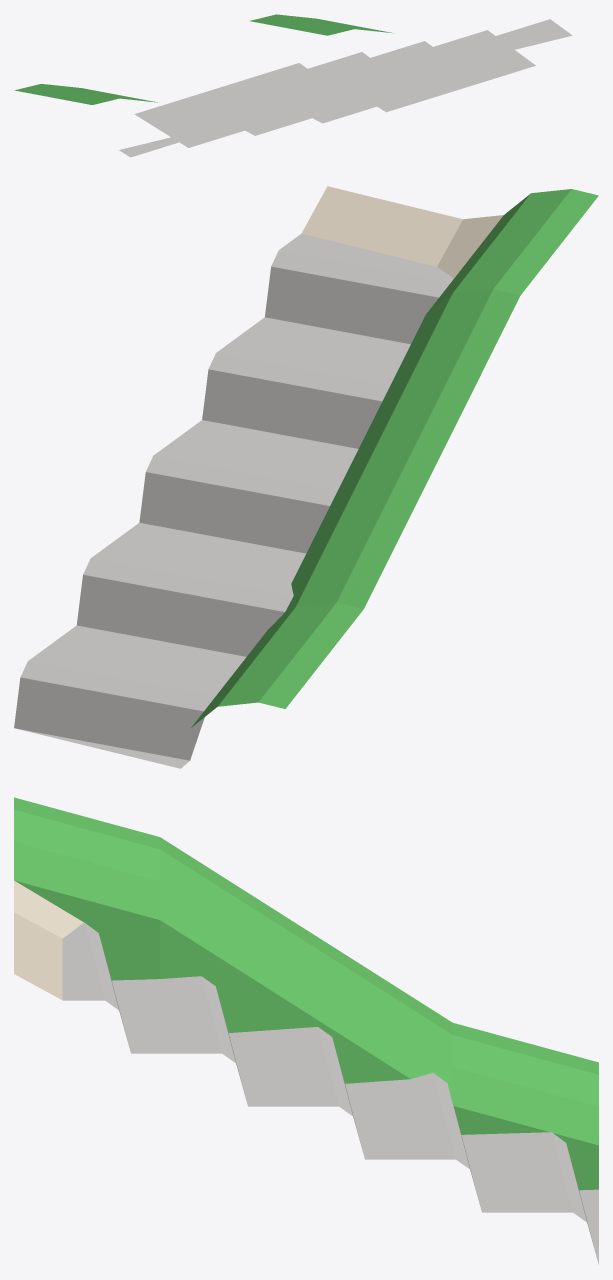
The model's file is Cliff_Terrain_Path_Steps_Grass_Edge_Top.glb.
3 renders of one model, top to bottom at view 1: azimuth 30°, elevation 25°; view 2: azimuth 150°, elevation 25°; view 3: azimuth 270°, elevation 25°, orthographic. The views are drawn at different scales.
Parts seen in each view (by area): view 1: Cliff_Terrain_Path_Steps_Grass_Edge_Top; view 2: Cliff_Terrain_Path_Steps_Grass_Edge_Top; view 3: Cliff_Terrain_Path_Steps_Grass_Edge_Top.
Part boxes in pixels (x1,y1,x2,y2): Cliff_Terrain_Path_Steps_Grass_Edge_Top: [14, 14, 572, 157]; Cliff_Terrain_Path_Steps_Grass_Edge_Top: [14, 186, 598, 768]; Cliff_Terrain_Path_Steps_Grass_Edge_Top: [14, 797, 598, 1264].
Size of the model in its own units: 1 by 1.3 by 2.
